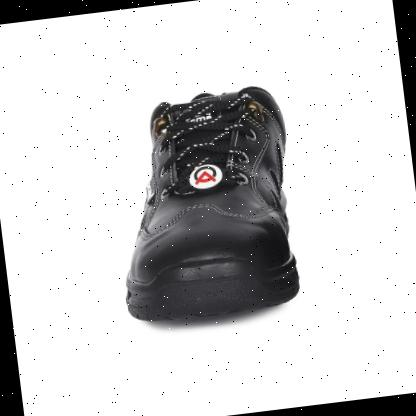bota: (95, 78, 310, 330)
